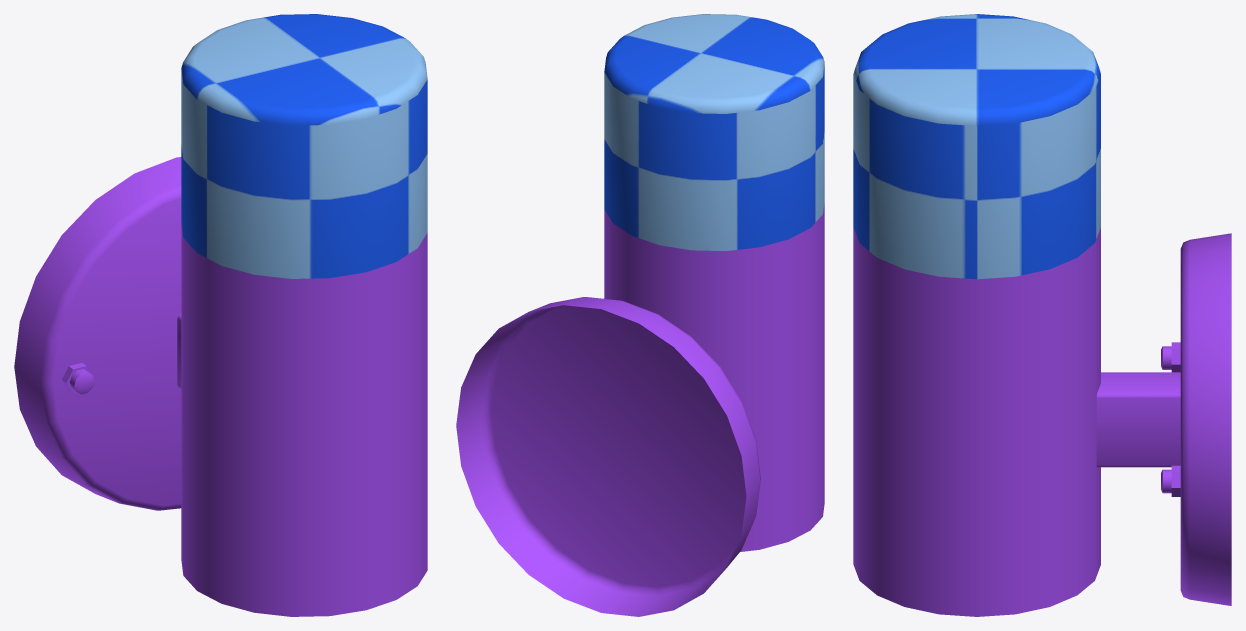
The model's file is LightWall03_2.FBX.
3 renders of one model, left to right at view 1: azimuth 30°, elevation 25°; view 2: azimuth 150°, elevation 25°; view 3: azimuth 270°, elevation 25°, orthographic. The views are drawn at different scales.
Parts seen in each view (by area): view 1: LightWall03_2; view 2: LightWall03_2; view 3: LightWall03_2.
Part boxes in pixels (x1,y1,x2,y2): LightWall03_2: (14,14,427,616); LightWall03_2: (456,14,824,616); LightWall03_2: (853,14,1231,616).
Size of the model in its own units: 12.43 by 19.34 by 12.56.
